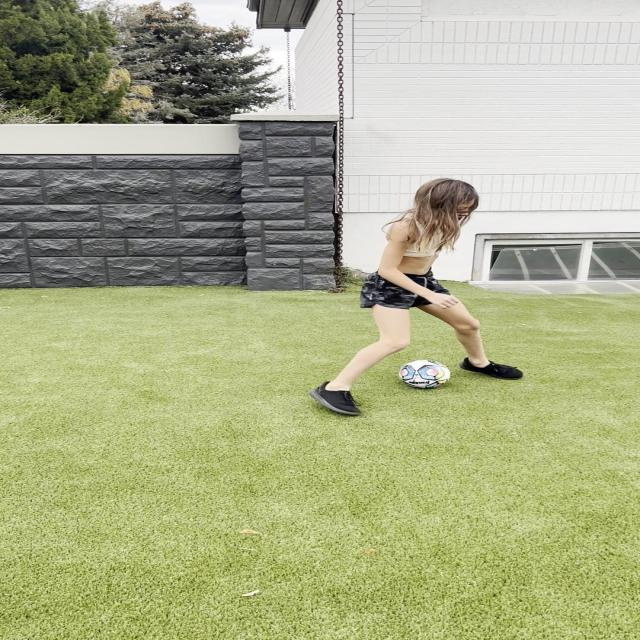Soccer Ball: (399, 359, 451, 388)
